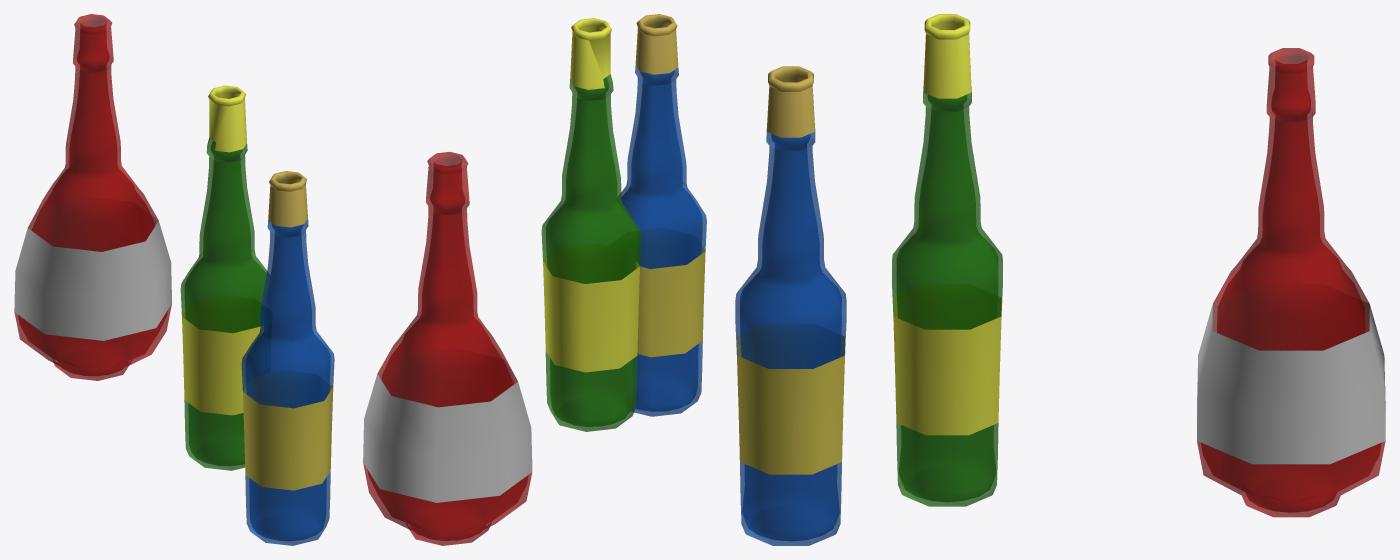
Rendered from bottles.fbx.
3 views of the same model, side by side, from view 1: azimuth 30°, elevation 25°; view 2: azimuth 150°, elevation 25°; view 3: azimuth 270°, elevation 25° (orthographic). The views are drawn at different scales.
Visible parts, largest first — view 1: Mesh1, Bottle_001:Mesh, Mesh; view 2: Mesh1, Mesh, Bottle_001:Mesh; view 3: Mesh1, Mesh, Bottle_001:Mesh.
Boxes of the visible parts, box(x1,y1,x2,y2) form: Mesh1: box(14, 14, 171, 380); Bottle_001:Mesh: box(241, 171, 334, 545); Mesh: box(180, 85, 269, 470); Mesh1: box(363, 152, 532, 545); Mesh: box(541, 18, 641, 431); Bottle_001:Mesh: box(618, 14, 706, 416); Mesh1: box(1197, 48, 1385, 517); Mesh: box(892, 14, 1002, 506); Bottle_001:Mesh: box(735, 66, 846, 545).
Bounding box in the file's own units: 8.24 × 24.38 × 28.4.
